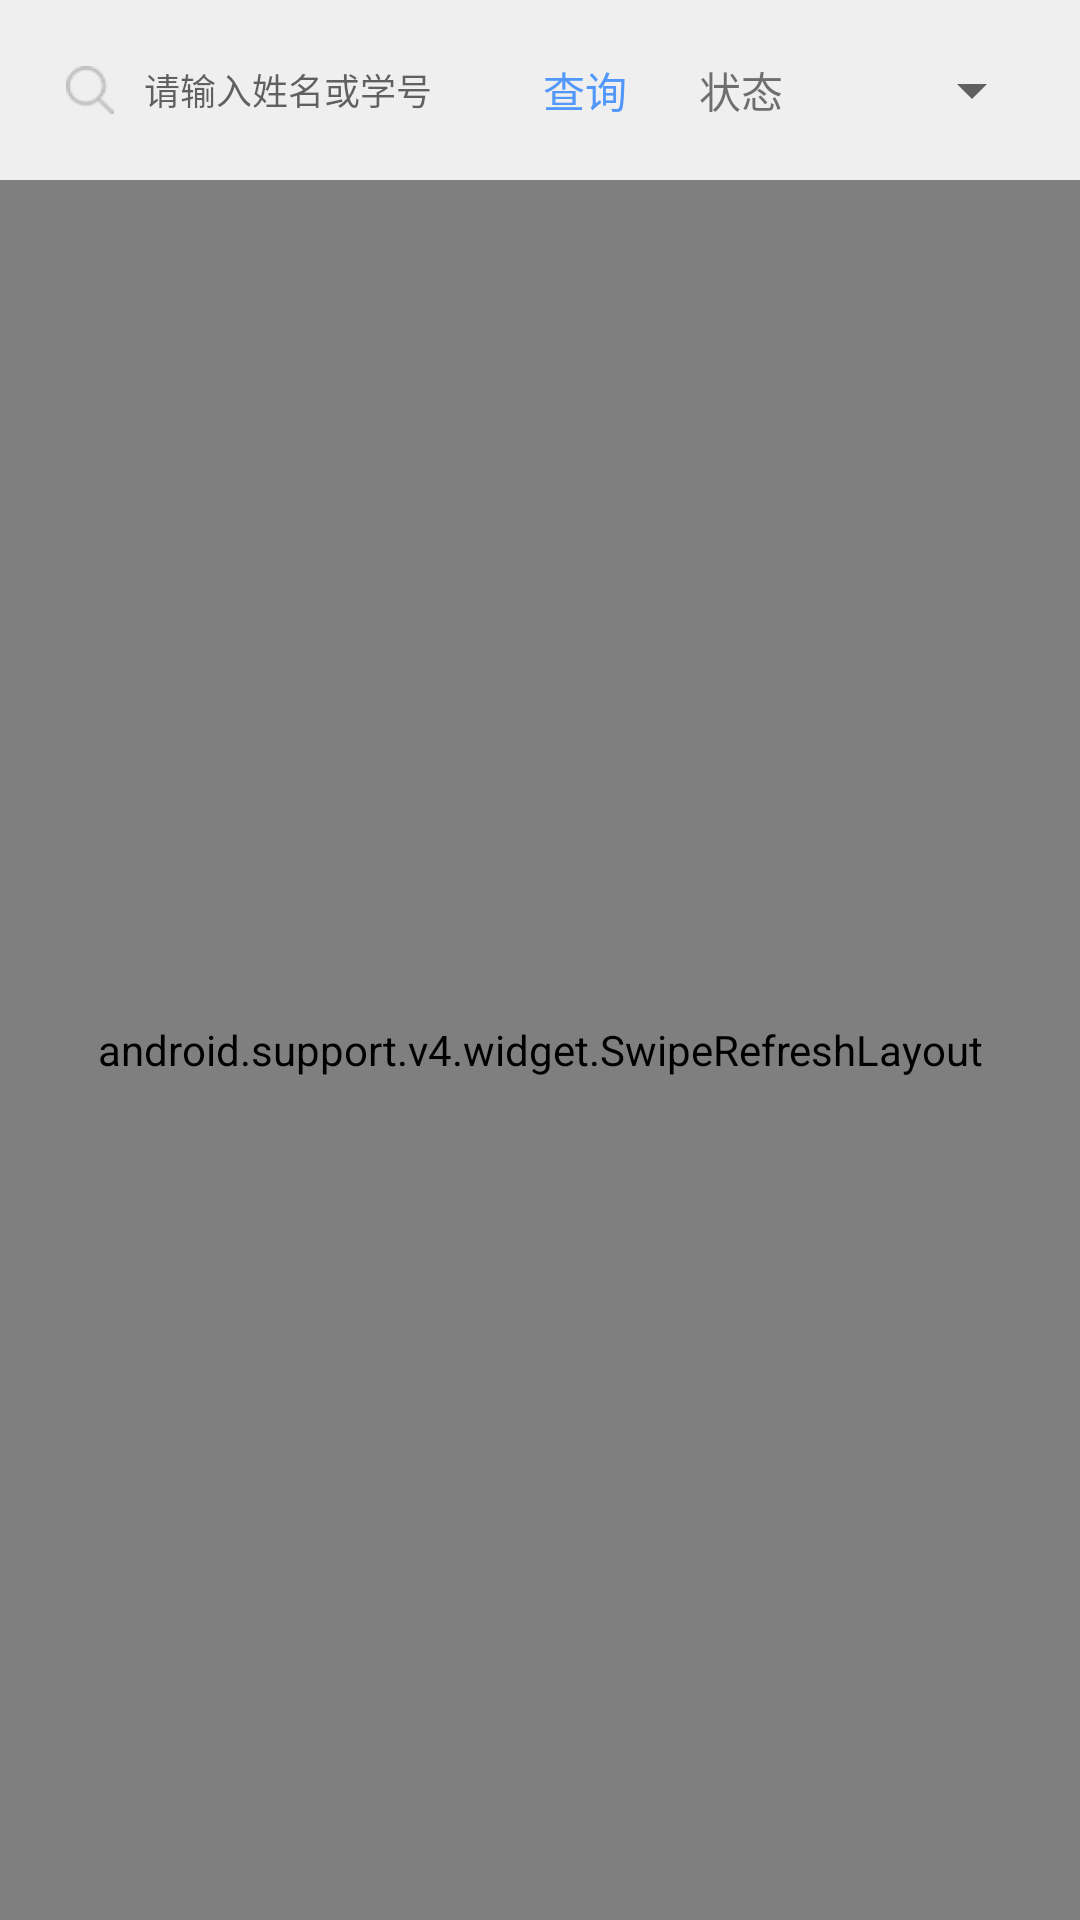

Point at icon controls on the screen. Image size 1080w x 1920h, points as (x=x, y=y).
search: (x=90, y=90)
